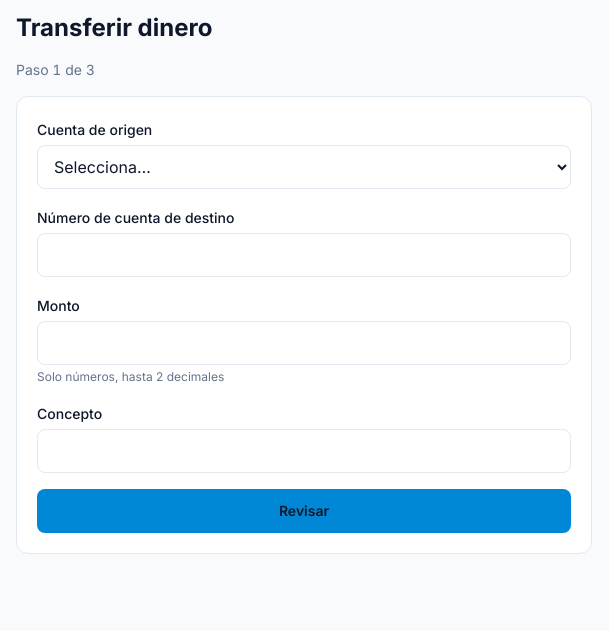
Test: Transferencias: flujo de 3 pasos › valida el paso 1 antes de avanzar
Click the button "Revisar": (304, 511) [37,489,571,533]
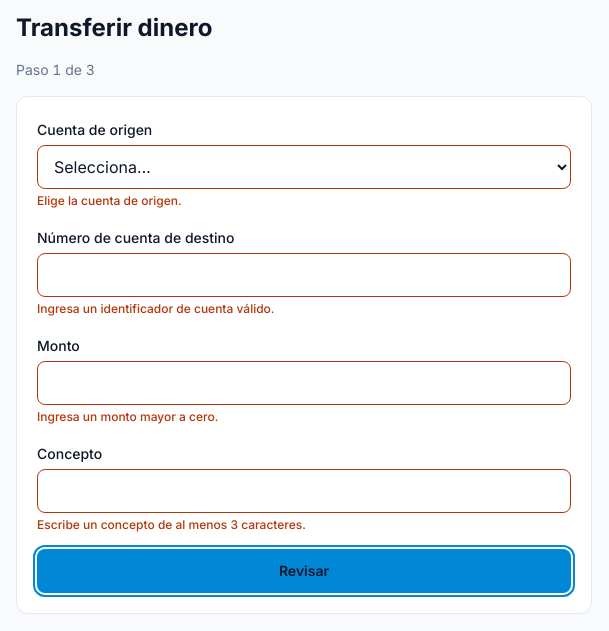
Expected: the text "Elige la cuenta de origen." is shown, [37,193,182,208]
Expected: the text "Ingresa un monto mayor a cero." is shown, [37,409,218,424]
